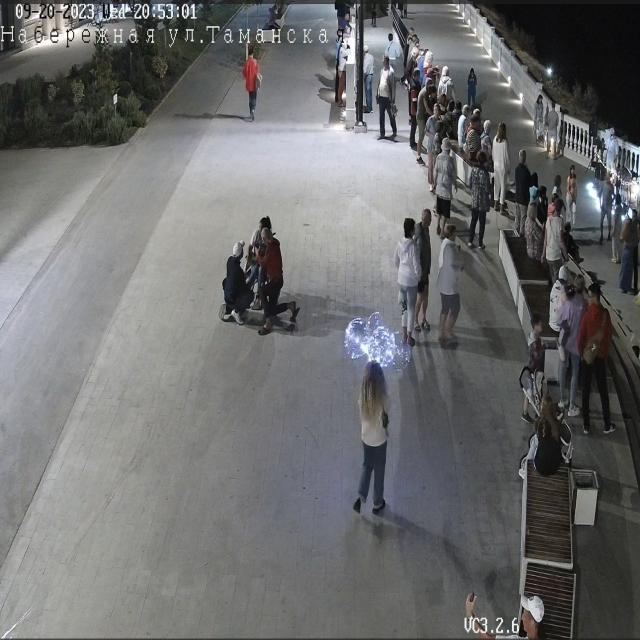market: (343, 293, 414, 386)
